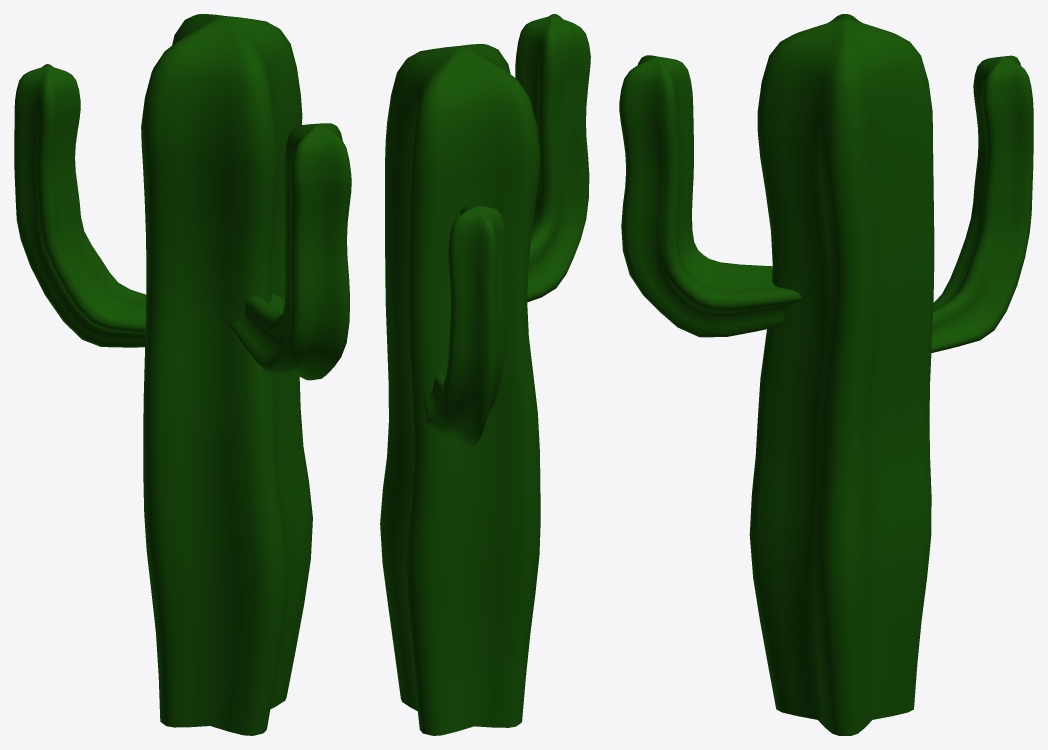
Rendered from Cactus.fbx.
3 renders of one model, left to right at view 1: azimuth 30°, elevation 25°; view 2: azimuth 150°, elevation 25°; view 3: azimuth 270°, elevation 25°, orthographic. The views are drawn at different scales.
Parts seen in each view (by area): view 1: Plane.002; view 2: Plane.002; view 3: Plane.002.
Boxes of the visible parts, box(x1,y1,x2,y2) form: Plane.002: box(14, 14, 351, 735); Plane.002: box(380, 14, 590, 735); Plane.002: box(619, 14, 1033, 735).
Size of the model in its own units: 268 by 864 by 472.
